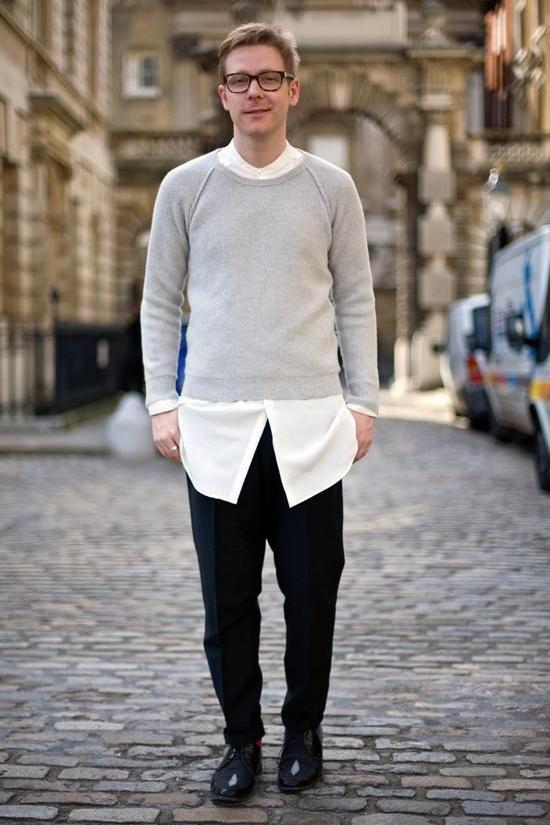pants: (184, 398, 344, 749)
sweater: (137, 139, 382, 420)
